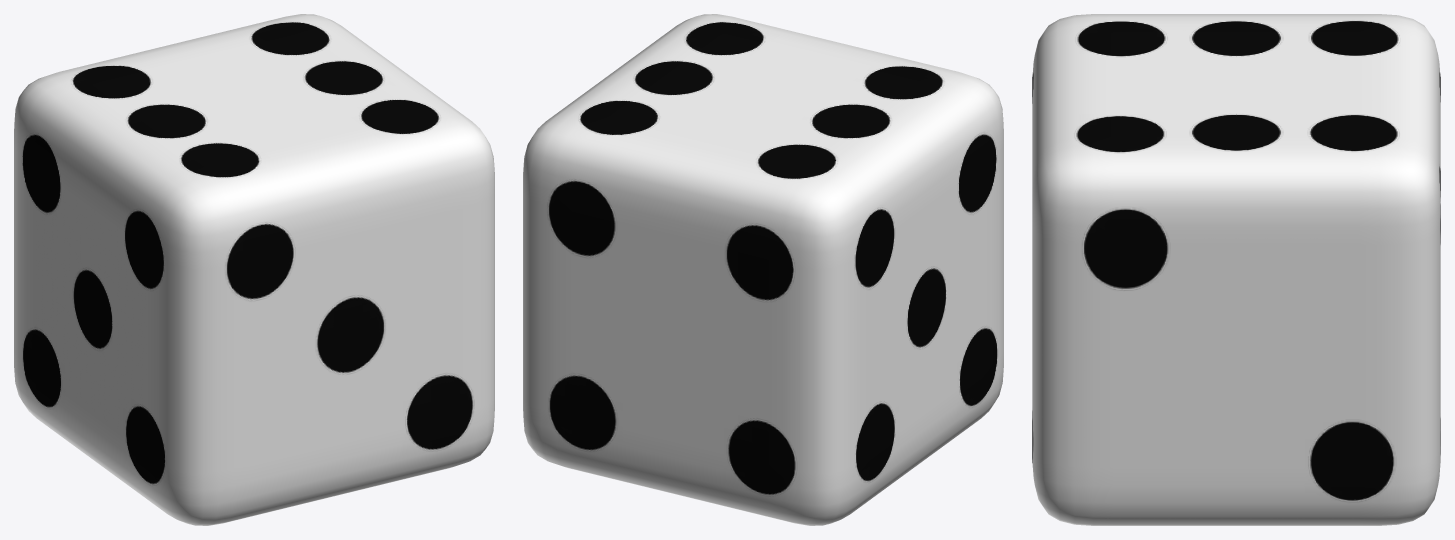
File: Dice9.fbx
3 views of the same model, side by side, from view 1: azimuth 30°, elevation 25°; view 2: azimuth 150°, elevation 25°; view 3: azimuth 270°, elevation 25° (orthographic). The views are drawn at different scales.
Parts seen in each view (by area): view 1: Cube; view 2: Cube; view 3: Cube.
Boxes of the visible parts, x1=… form: Cube: x1=14, y1=14, x2=494, y2=525; Cube: x1=523, y1=14, x2=1003, y2=525; Cube: x1=1032, y1=14, x2=1440, y2=525.
Size of the model in its own units: 10 by 10 by 10.
